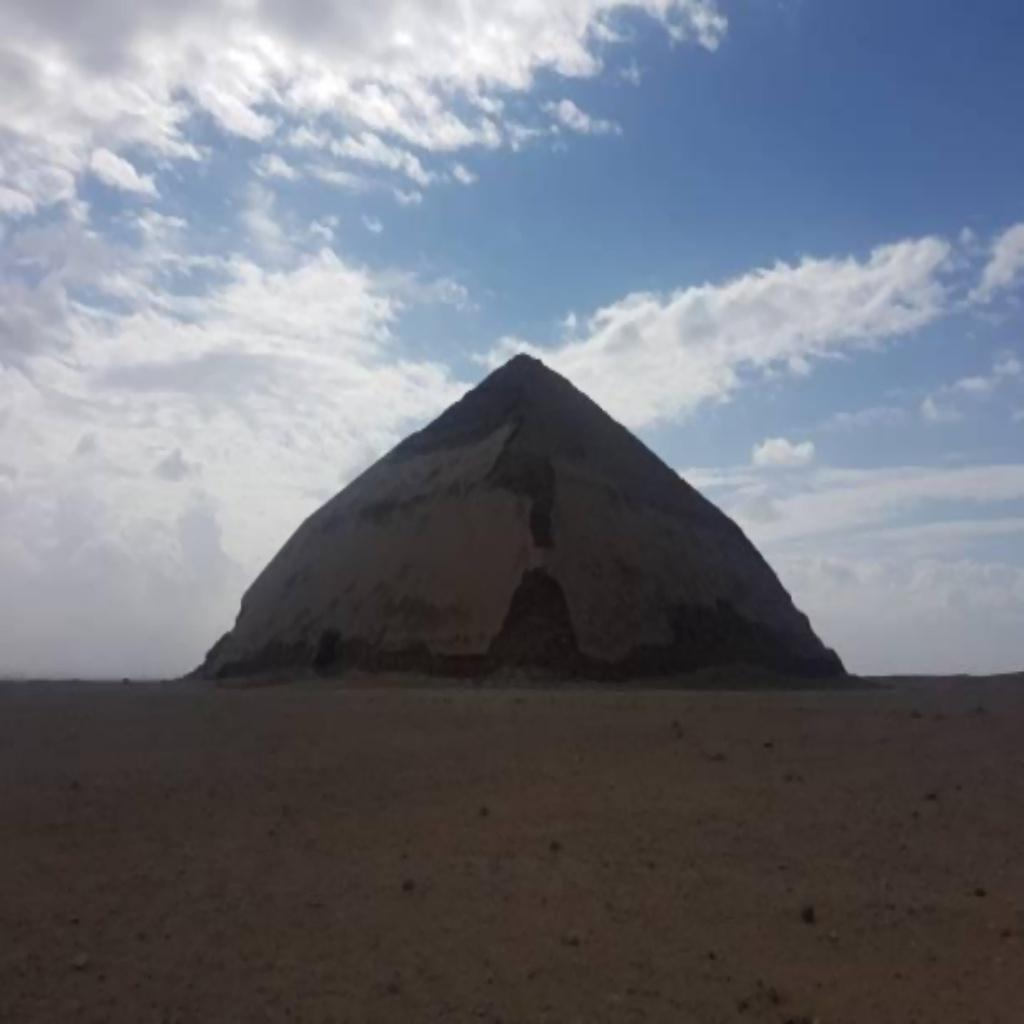Bent Pyramid of King Sneferu: (192, 346, 850, 687)
